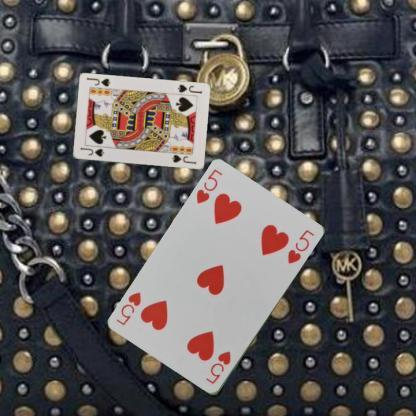5h: (194, 168, 224, 206), (202, 349, 232, 386)
Js: (174, 82, 203, 96), (78, 144, 106, 158)
